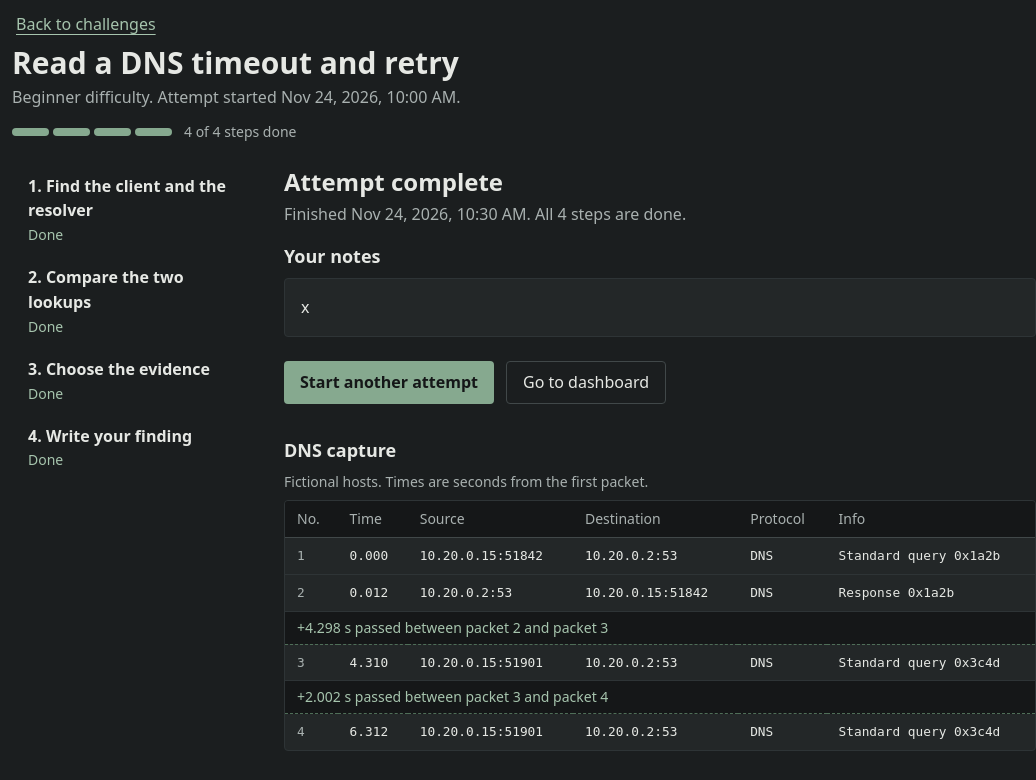
Test: Workspace: finished attempt › reports why another attempt could not start
Step 1. Click the button "Start another attempt" → coordinates (389, 383), box 284,361 -> 494,404
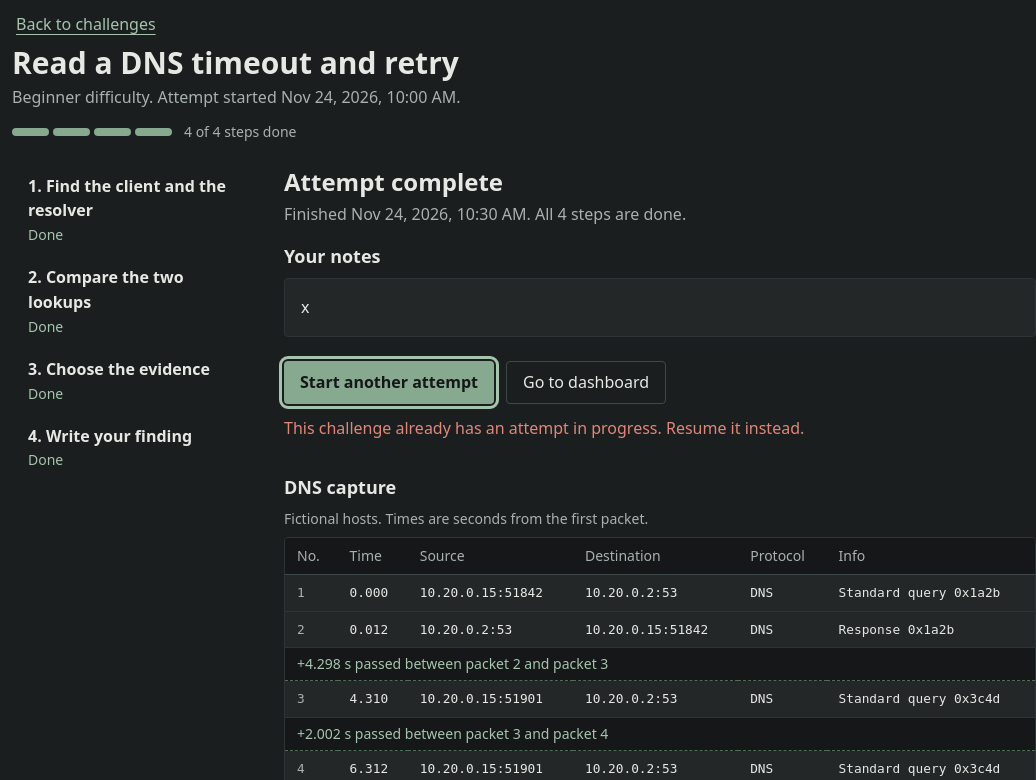
Expected: the message shows "already has an attempt in progress", 284,417 -> 804,439
